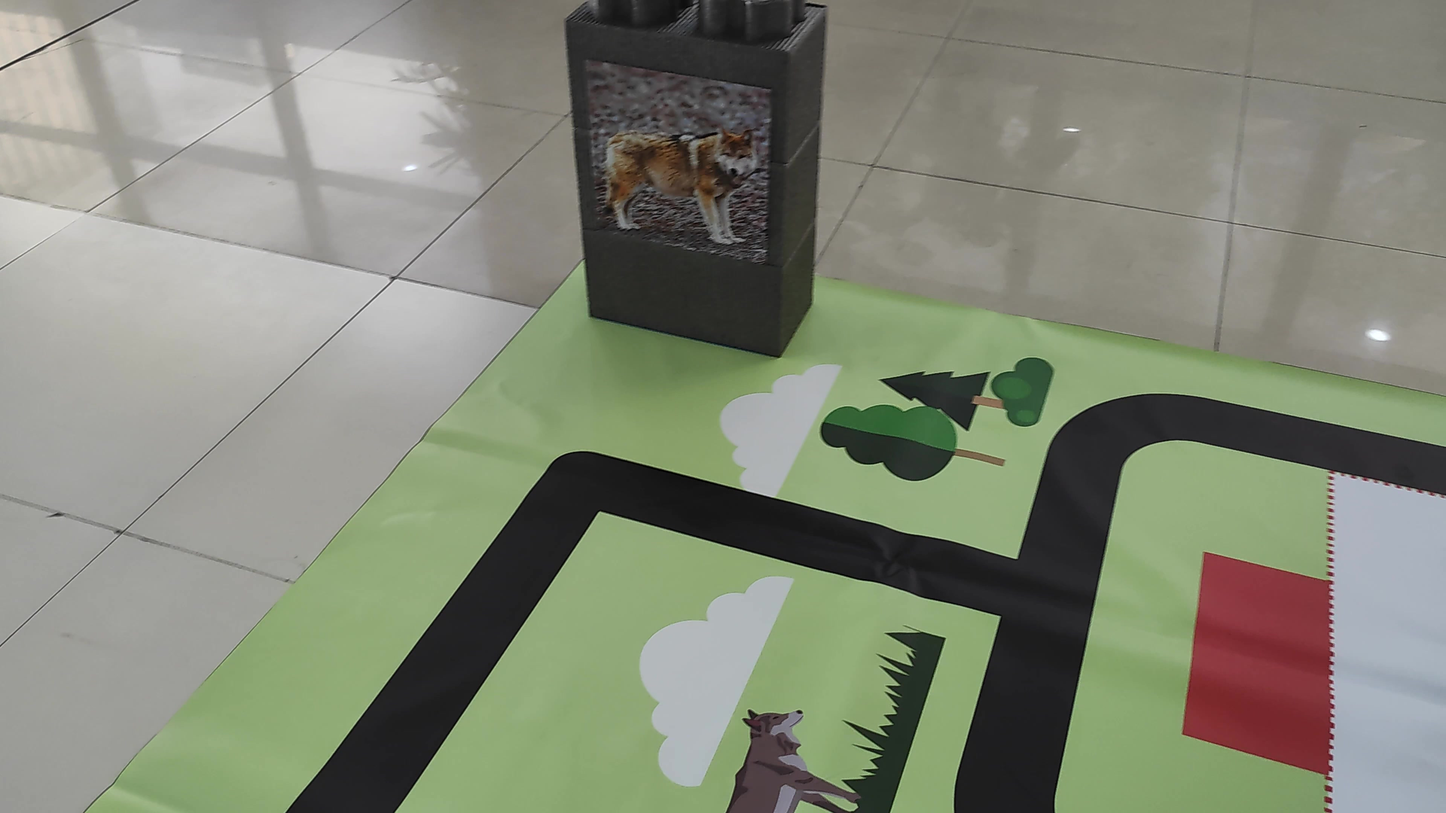wolf: (587, 57, 767, 254)
